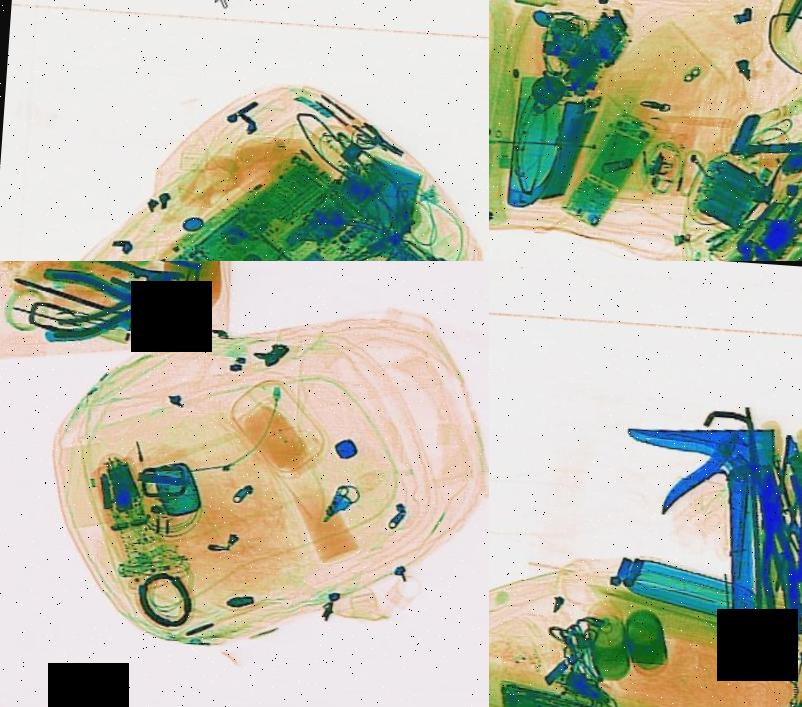Knife: (610, 413, 790, 650)
Pliers: (35, 261, 178, 348), (738, 463, 802, 630), (42, 261, 189, 332), (737, 167, 802, 261)
